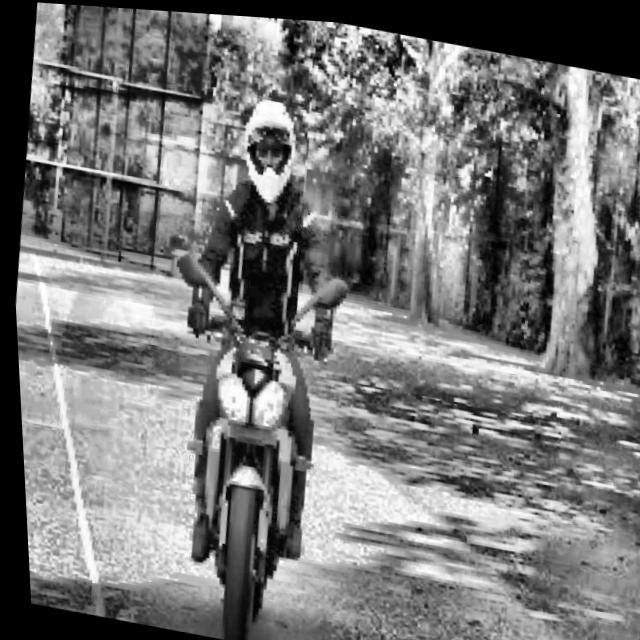motorcycle: (123, 230, 365, 640)
